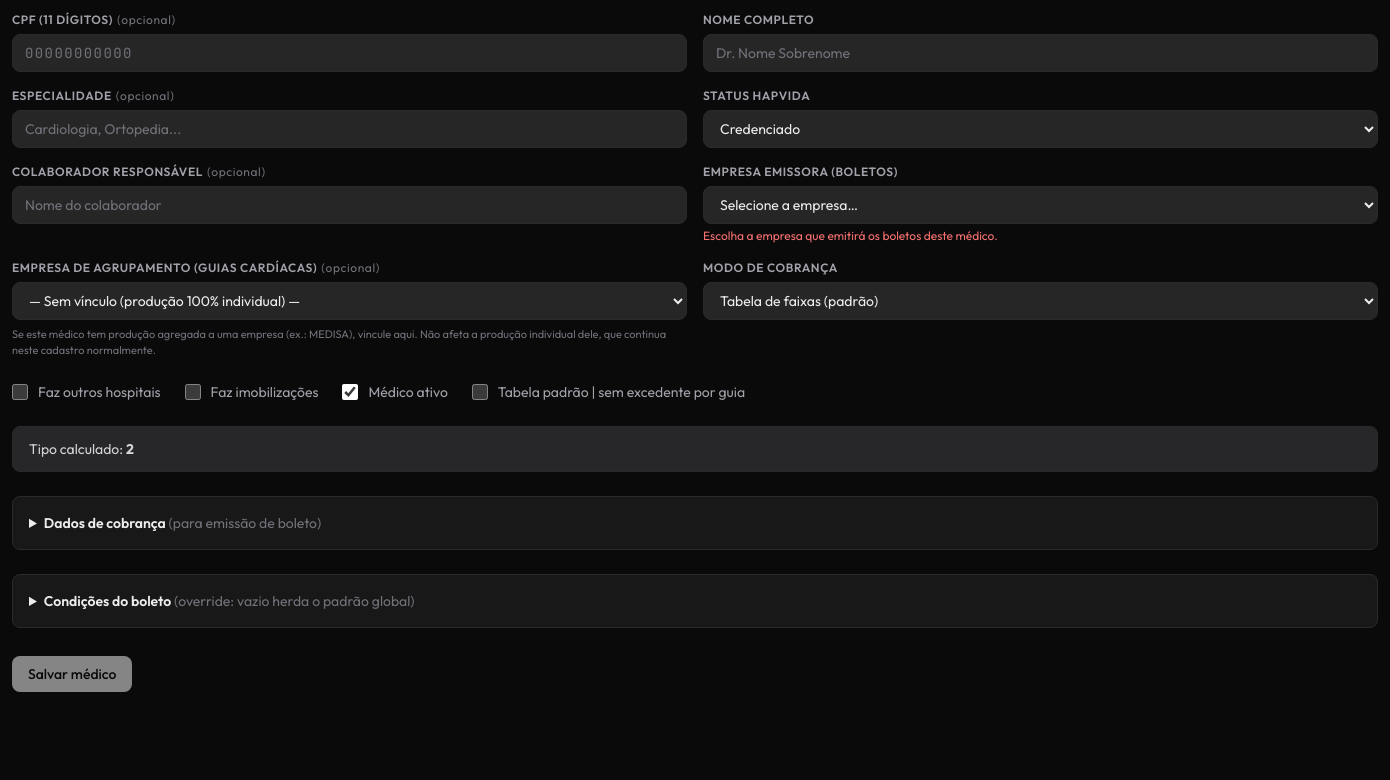
Test: MedicoForm › mostra o TIPO calculado para combinação válida e habilita salvar
The width and height of the screenshot is (1390, 780).
Step 1. Type "12345678901" into the field labelled "CPF (11 dígitos)(opcional)" → coordinates (350, 53), box x1=12 y1=34 x2=687 y2=72
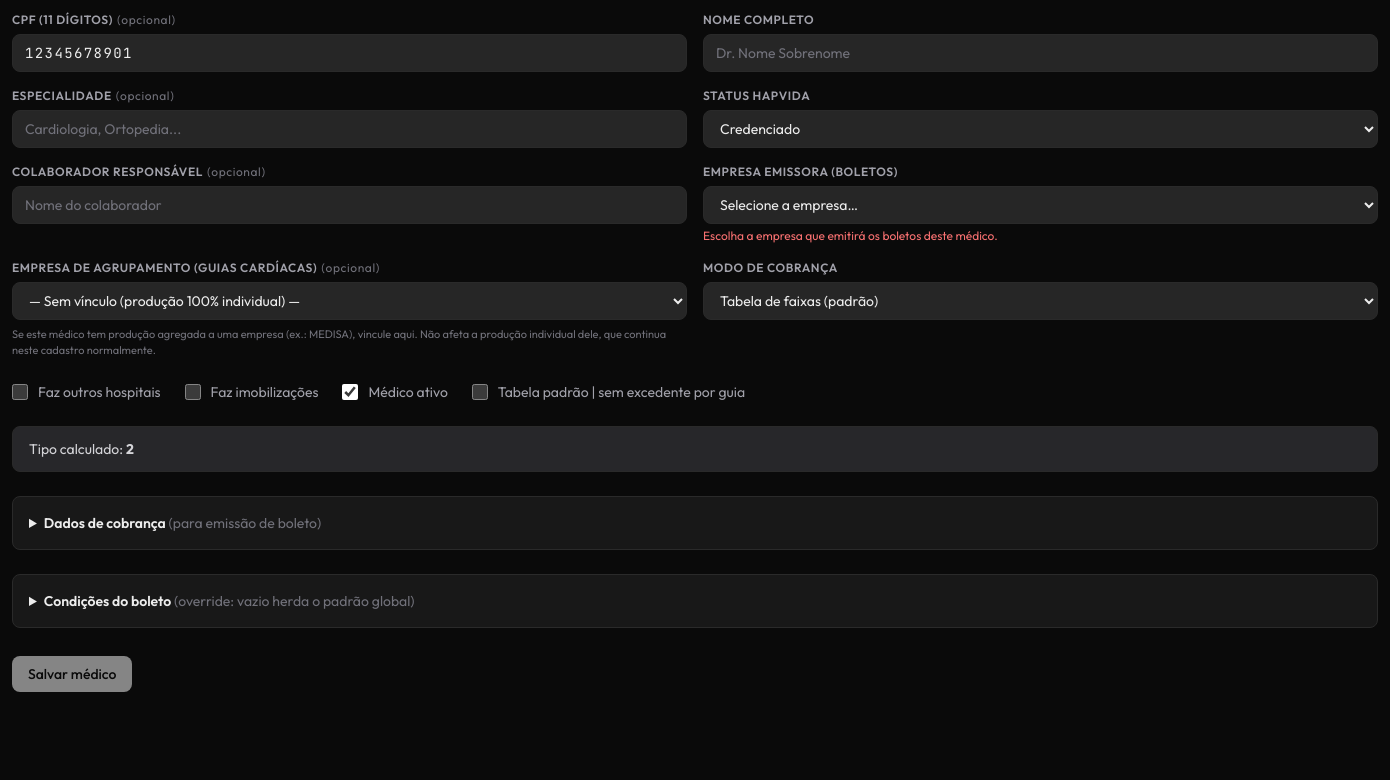
Step 2. Type "Dr. Teste" into the field labelled "Nome completo" → coordinates (1040, 53), box x1=703 y1=34 x2=1378 y2=72
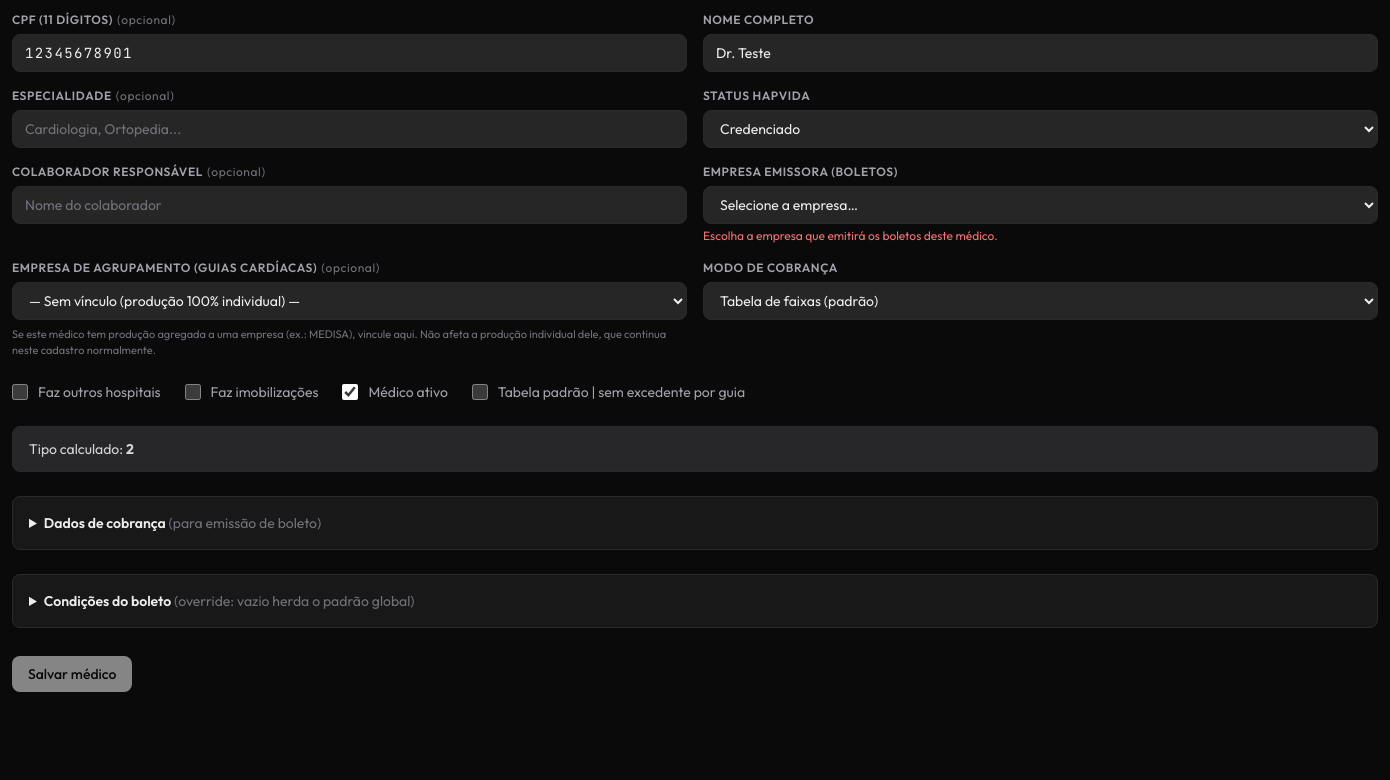
Step 3. Select "MC" in the dropdown labelled "Empresa emissora" → coordinates (1040, 205), box x1=703 y1=186 x2=1378 y2=224
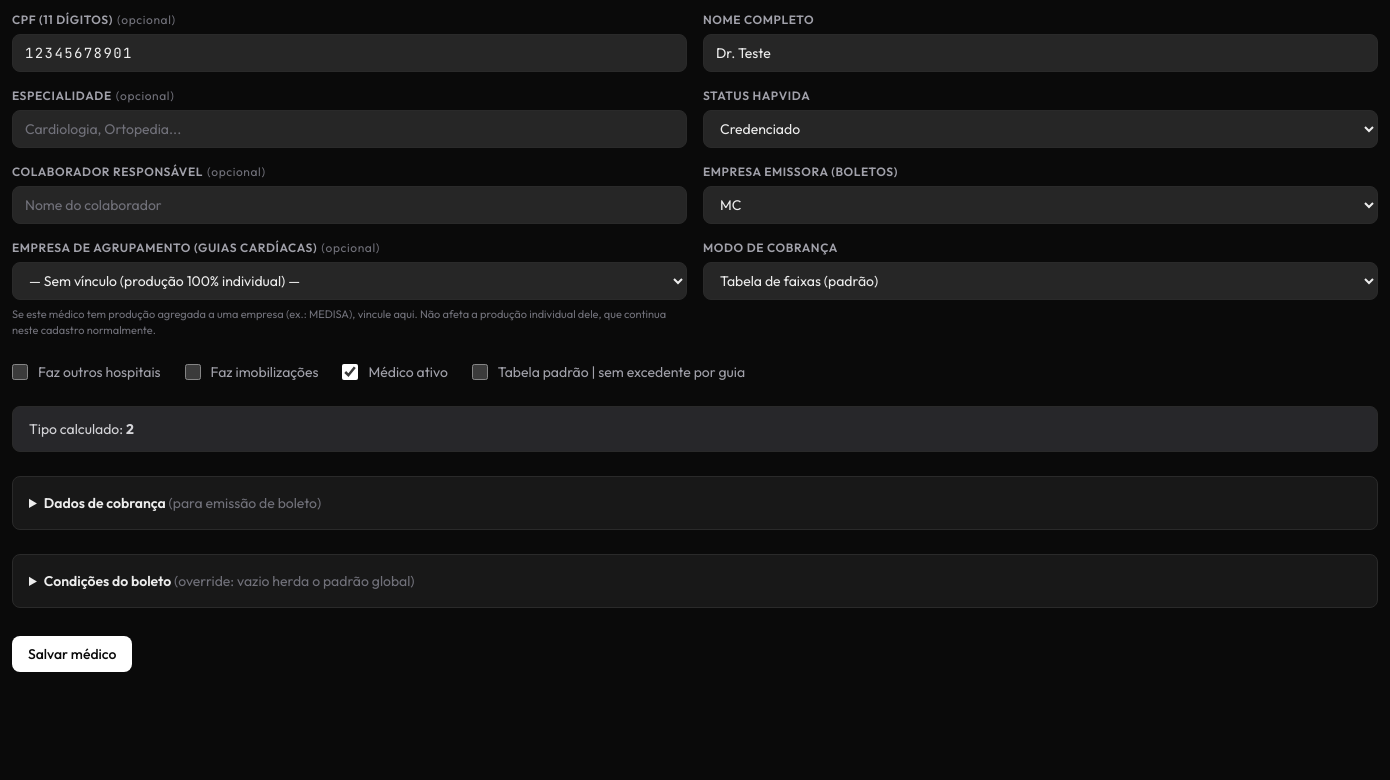
Check: the text "Tipo calculado: 2" is shown, box x1=29 y1=420 x2=134 y2=438
Check: the button "Salvar médico" is enabled, box x1=12 y1=636 x2=132 y2=672
